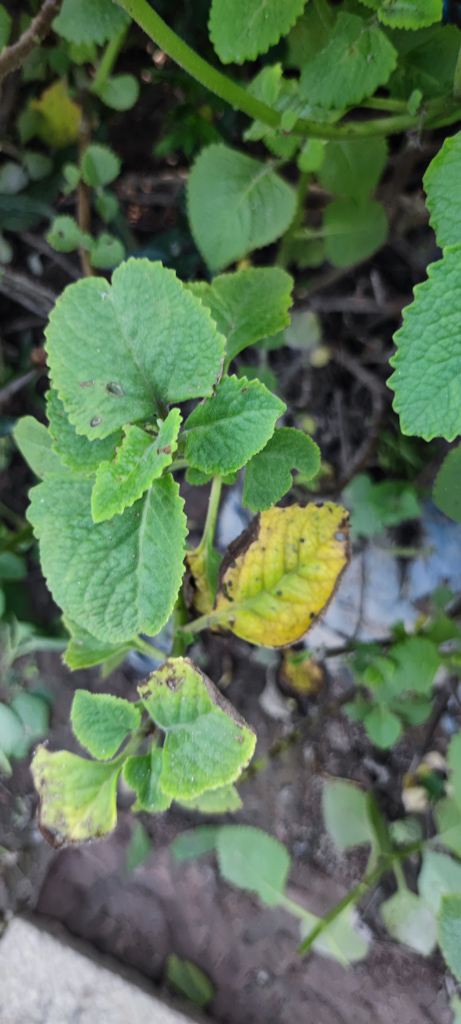Pepper yellow leaf: (214, 499, 361, 655), (144, 660, 258, 798), (27, 742, 122, 859)
